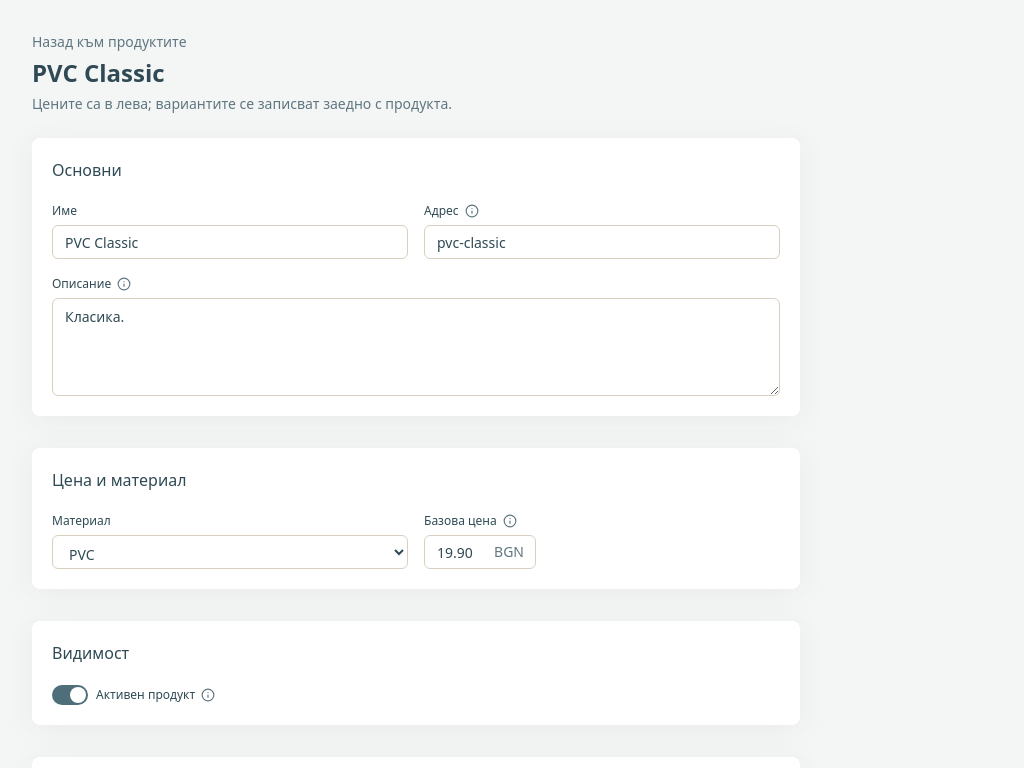
Scenario: ProductEditor › sends the whole product with variants and resets to the returned DTO
Replace the text in the field labelled "Име" with "PVC Neo" at (230, 242), box [52,225,408,259]
(page scrolled)
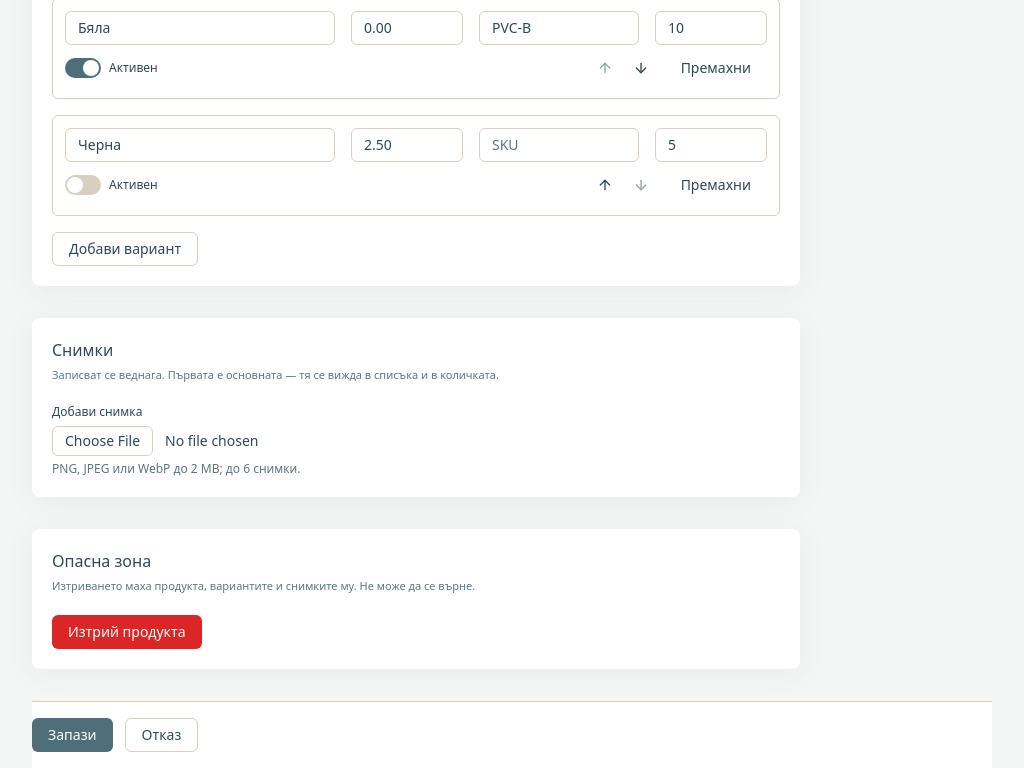
Click the button "Запази" at (72, 734), box [32,718,112,752]
(page scrolled)
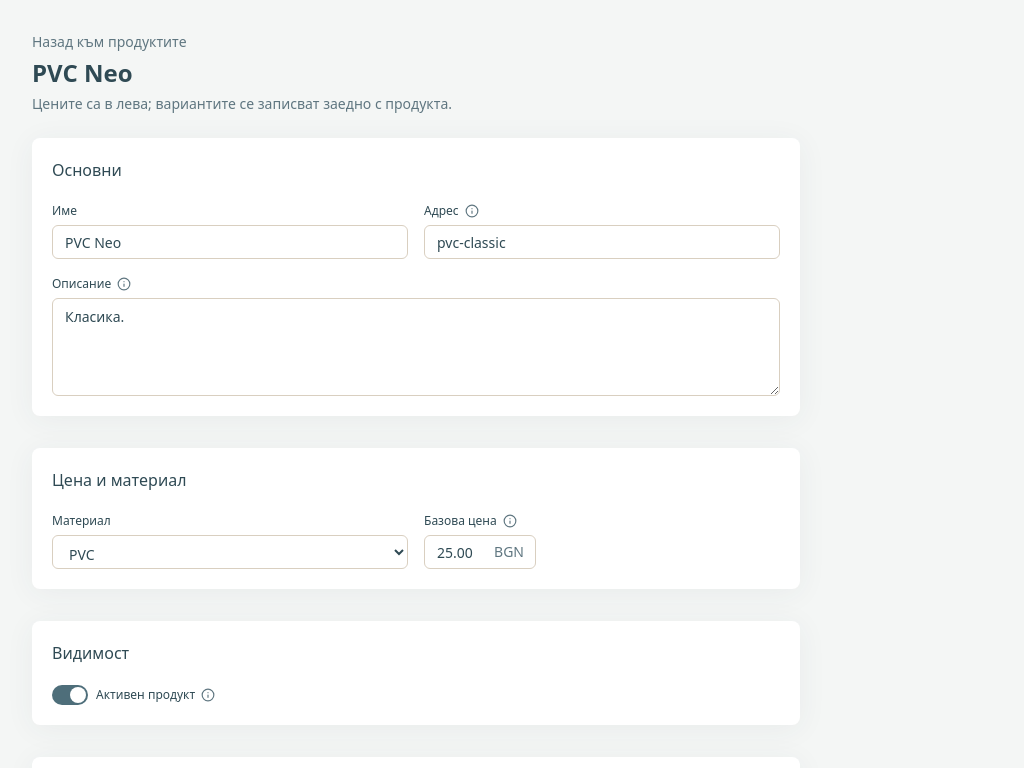
Check: the heading "PVC Neo" is shown, box [32,56,132,89]
Check: the field labelled "Базова цена" holds "25.00", box [424,535,536,569]
